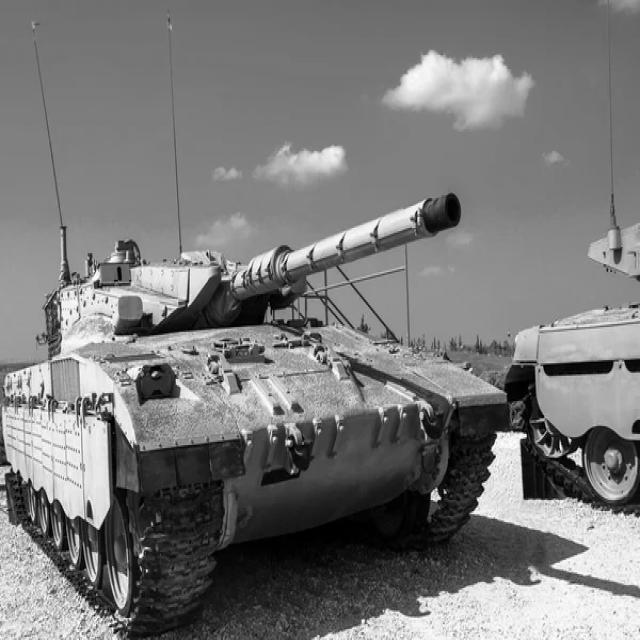Tank: (9, 184, 503, 629)
